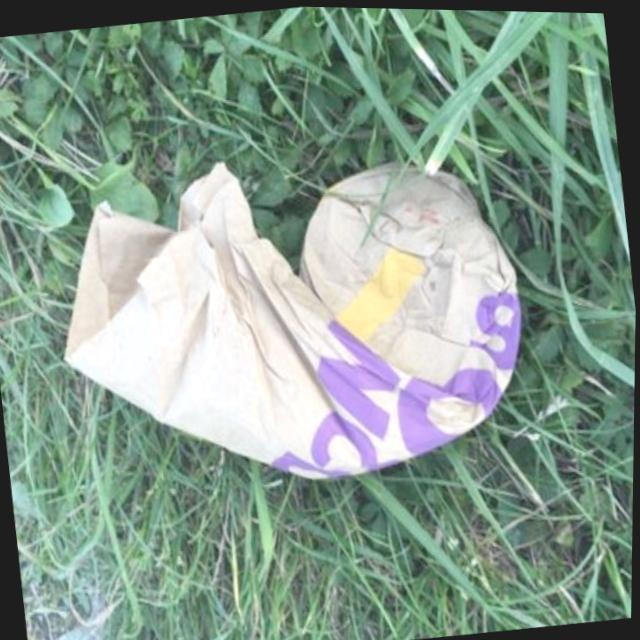Paper: (40, 117, 545, 516)
